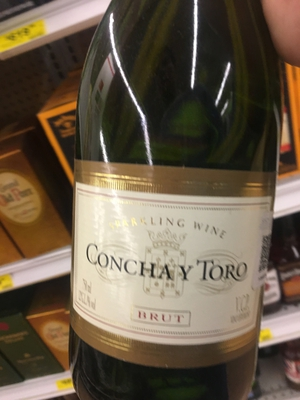brut: (64, 17, 280, 400)
